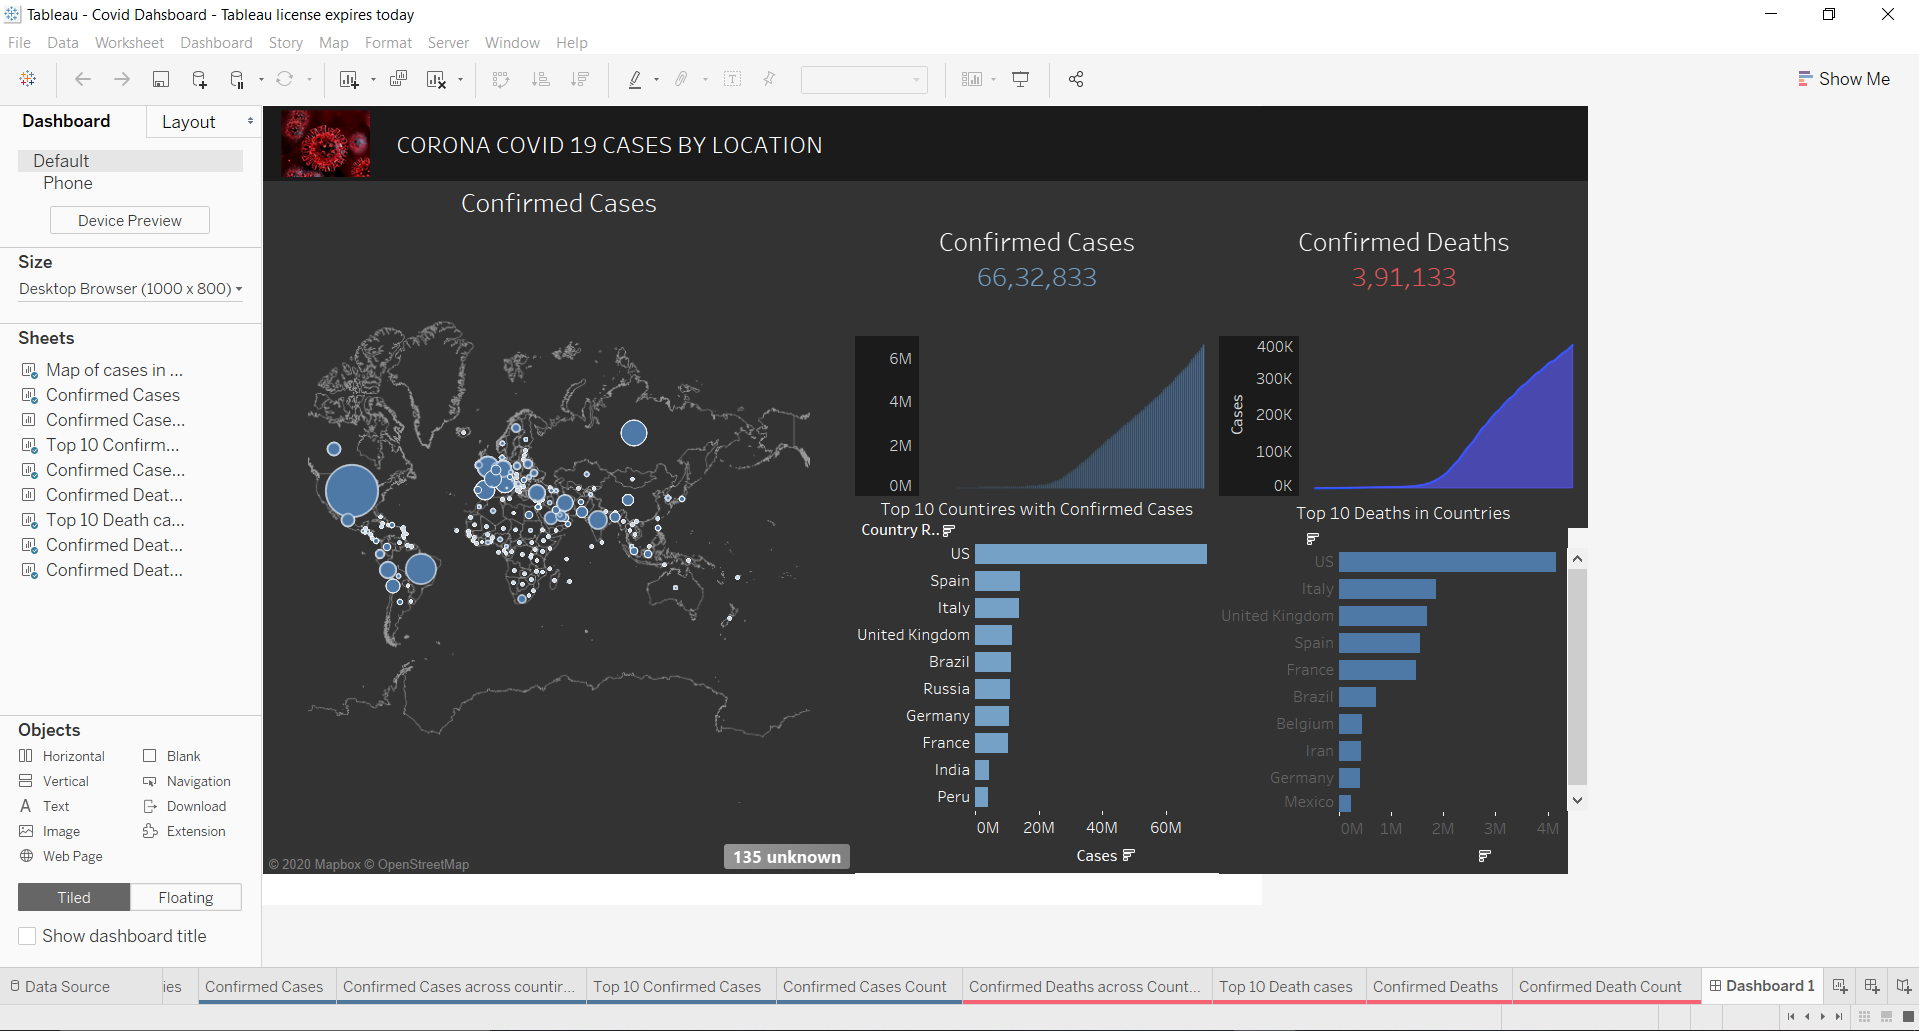

The dashboard page shown, as its layout file describes it:
{"tool":"tableau","page":{"name":"Dashboard 1","canvas":[1000,800],"ordinal":0},"visuals":[{"type":"worksheet","param":"C:/Users/Manan/Desktop/download.jpg","box":[1,1,126,75]},{"type":"worksheet","param":"horz","box":[8,8,984,784]},{"type":"worksheet","box":[8,8,824,784]},{"type":"worksheet","param":"vert","box":[832,8,160,784]},{"type":"worksheet","title":"Confirmed Death Count ","mark":"Automatic","box":[832,8,160,119]},{"type":"worksheet","title":"Map of cases in countries","mark":"Automatic","box":[1,76,592,693]},{"type":"worksheet","box":[593,76,364,693]},{"type":"worksheet","box":[593,76,364,339]},{"type":"worksheet","title":"Confirmed Cases Count","mark":"Automatic","box":[593,76,364,155.1]},{"type":"worksheet","param":"vert","box":[593,231.1,364,183.9]},{"type":"worksheet","title":"Confirmed Cases","mark":"Automatic","rows":["Cases","Cases"],"cols":["Date"],"box":[593,231.1,364,159.9]},{"type":"worksheet","box":[593,391,364,24]},{"type":"worksheet","title":"Top 10 Confirmed Cases","mark":"Automatic","rows":["Country_Region"],"cols":["Cases"],"box":[593,415,364,354]}]}

Visuals, with their boxes on the page's 1000x800 design canvas (x1, y1, x2, y2). These are canvas units, not pixel positions in the 1919x1031 screenshot, which may show the page scaled, cropped or inside an application window:
worksheet: 1 1 127 76
worksheet: 8 8 992 792
worksheet: 8 8 832 792
worksheet: 832 8 992 792
"Confirmed Death Count " worksheet: 832 8 992 127
"Map of cases in countries" worksheet: 1 76 593 769
worksheet: 593 76 957 769
worksheet: 593 76 957 415
"Confirmed Cases Count" worksheet: 593 76 957 231
worksheet: 593 231 957 415
"Confirmed Cases" worksheet: 593 231 957 391
worksheet: 593 391 957 415
"Top 10 Confirmed Cases" worksheet: 593 415 957 769
